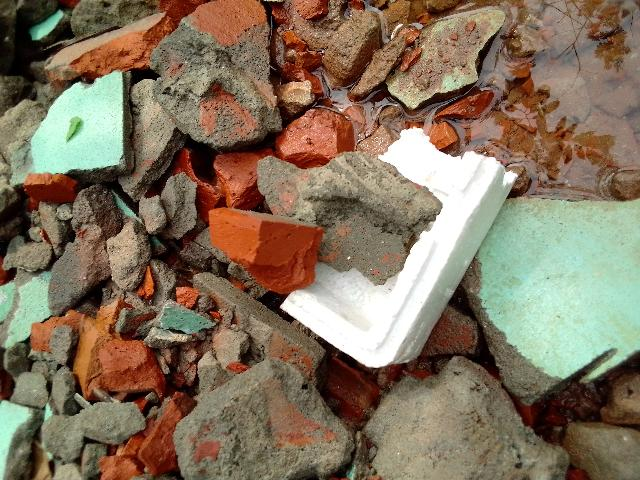cocksheet: (271, 111, 519, 386)
